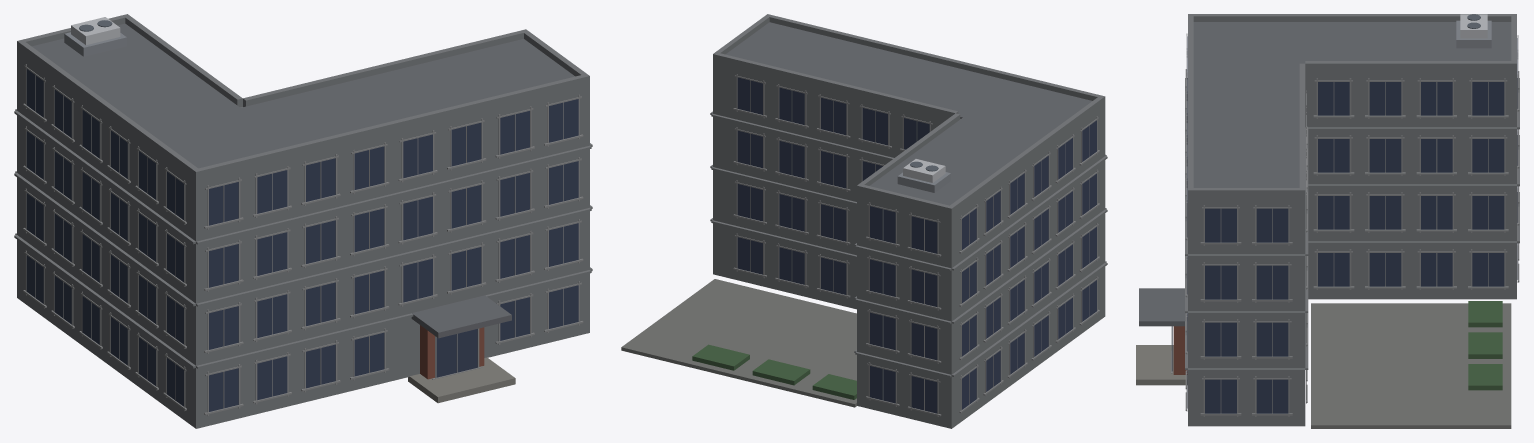
Rendered from civic_corner_08x04_lvl1.glb.
3 renders of one model, left to right at view 1: azimuth 30°, elevation 25°; view 2: azimuth 150°, elevation 25°; view 3: azimuth 270°, elevation 25°, orthographic. The views are drawn at different scales.
Visible parts, largest first — view 1: civic_corner_08x04; view 2: civic_corner_08x04; view 3: civic_corner_08x04.
Part boxes in pixels (x1,y1,x2,y2): civic_corner_08x04: [14, 14, 592, 428]; civic_corner_08x04: [621, 14, 1107, 428]; civic_corner_08x04: [1136, 14, 1519, 428].
Bounding box in the file's own units: 1 × 0.6735 × 0.9065.
